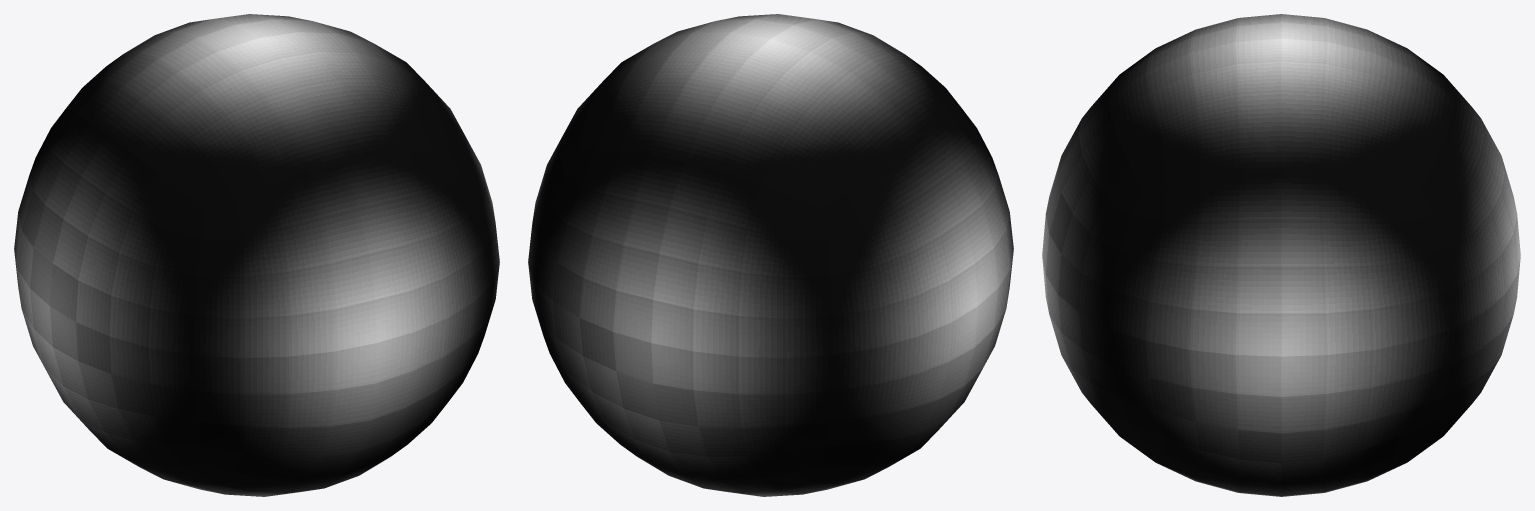
Rendered from ForceJumpPlanetA_bake.dae.
3 views of the same model, side by side, from view 1: azimuth 30°, elevation 25°; view 2: azimuth 150°, elevation 25°; view 3: azimuth 270°, elevation 25° (orthographic).
Parts seen in each view (by area): view 1: m0; view 2: m0; view 3: m0.
Part boxes in pixels (box(x1,y1,x2,y2)): m0: box(14, 14, 499, 496); m0: box(528, 14, 1013, 496); m0: box(1042, 14, 1520, 496).
Bounding box in the file's own units: 297 × 297 × 297.
Materials: 2 (2 with a texture image).
